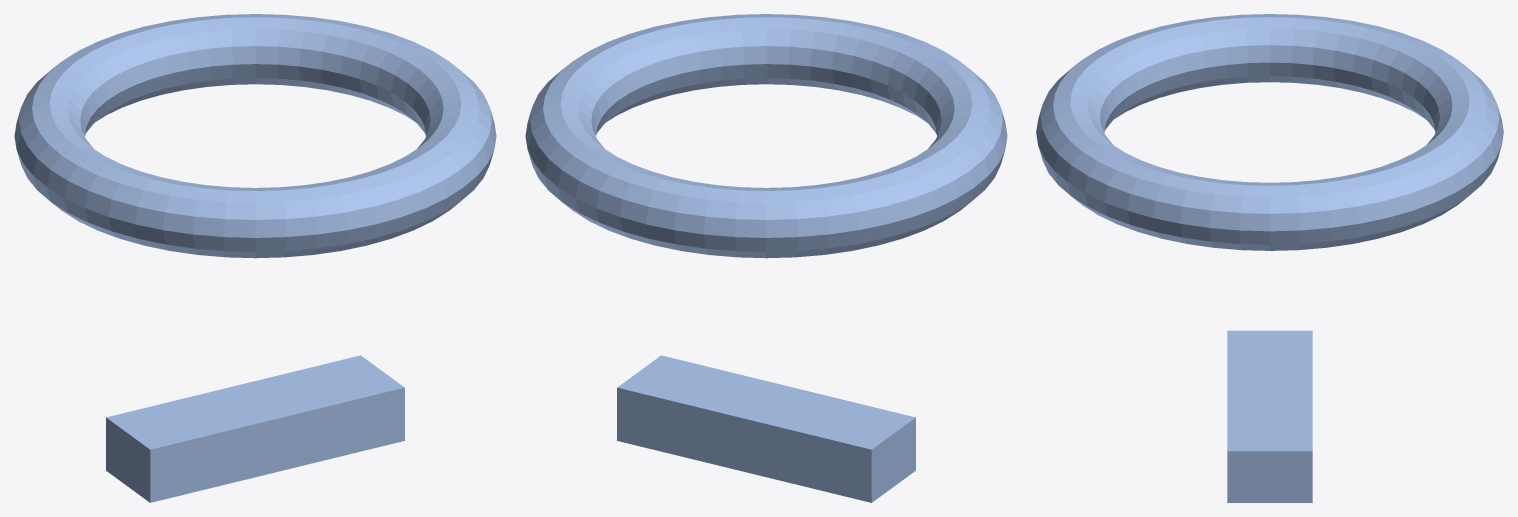
File: Building_Portal.fbx
3 views of the same model, side by side, from view 1: azimuth 30°, elevation 25°; view 2: azimuth 150°, elevation 25°; view 3: azimuth 270°, elevation 25° (orthographic). The views are drawn at different scales.
Visible parts, largest first — view 1: Portal; view 2: Portal; view 3: Portal.
Part boxes in pixels (<box>): Portal: <box>14,14,496,502</box>; Portal: <box>525,14,1007,502</box>; Portal: <box>1036,14,1503,502</box>.
Size of the model in its own units: 1.64 by 1.32 by 1.64.
